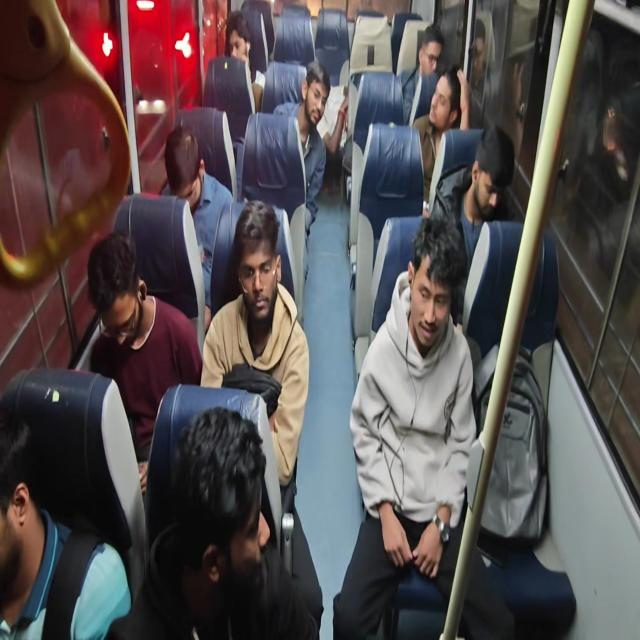person: (332, 213, 478, 638), (200, 199, 323, 636), (104, 405, 270, 639), (172, 406, 321, 638), (86, 228, 202, 498), (0, 413, 132, 639), (430, 124, 515, 326), (163, 125, 234, 329), (272, 59, 331, 278), (412, 64, 471, 215), (402, 24, 444, 125), (224, 9, 265, 112), (309, 60, 349, 155), (466, 16, 494, 127)
